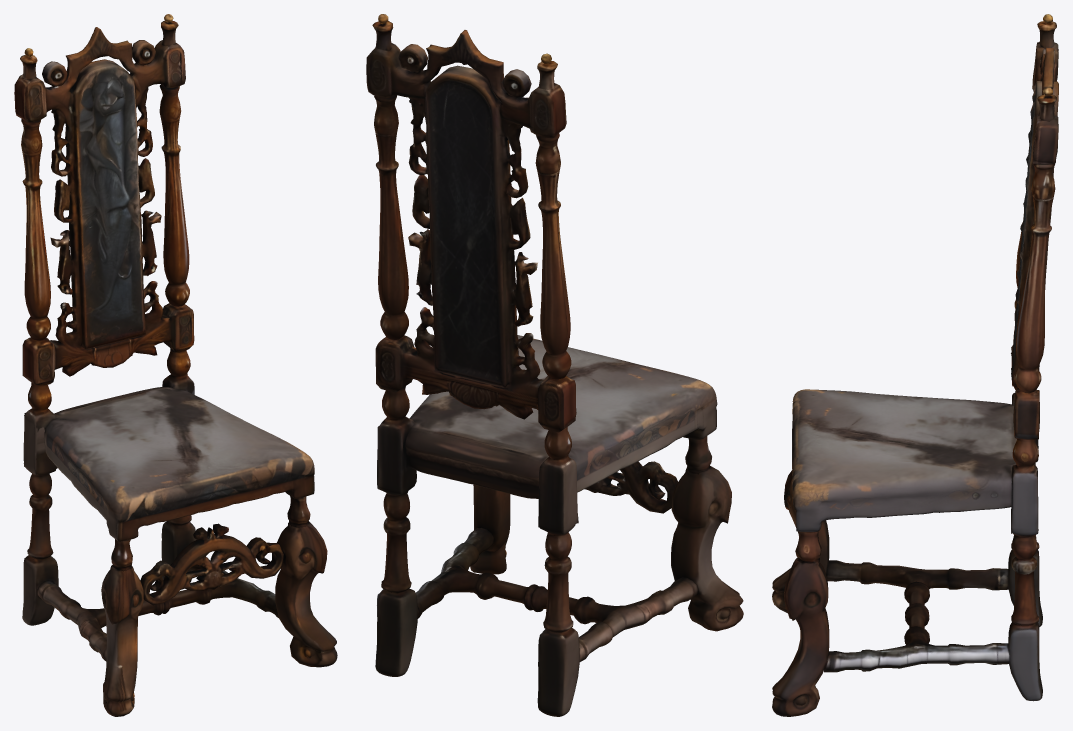
The picture shows the model from 3 angles, left to right: view 1: azimuth 30°, elevation 25°; view 2: azimuth 150°, elevation 25°; view 3: azimuth 270°, elevation 25°; orthographic projection. The views are drawn at different scales.
Parts seen in each view (by area): view 1: root.1, root.0, root.2, root.3, root.4, root.5, root.6, root.7, root.8, root.9, root.10; view 2: root.1, root.0, root.2, root.3, root.6, root.7, root.8, root.4, root.5, root.10; view 3: root.0, root.3, root.1, root.5, root.8, root.7, root.2, root.6, root.9.
Part boxes in pixels (x1,y1,x2,y2): root.1: (14,27,194,385); root.0: (44,387,314,541); root.2: (20,48,58,625); root.3: (159,14,196,589); root.4: (140,523,283,605); root.5: (275,521,337,667); root.6: (101,564,143,716); root.7: (37,581,164,661); root.8: (162,559,278,617); root.9: (287,496,310,527); root.10: (111,539,132,571); root.1: (366,30,576,432); root.0: (405,335,717,498); root.2: (535,53,579,716); root.3: (372,14,417,676); root.6: (671,466,743,631); root.7: (530,577,698,661); root.8: (416,527,538,618); root.4: (584,461,677,513); root.5: (470,484,510,574); root.10: (685,436,711,474); root.0: (792,389,1035,532); root.3: (1008,87,1056,701); root.1: (1011,42,1058,439); root.5: (772,558,829,716); root.8: (824,606,1009,672); root.7: (826,560,1008,616); root.2: (1008,14,1056,627); root.6: (772,470,829,613); root.9: (795,531,821,563).
Size of the model in its own units: 0.5716 by 1.36 by 0.5767.
11 materials, 11 textured.
